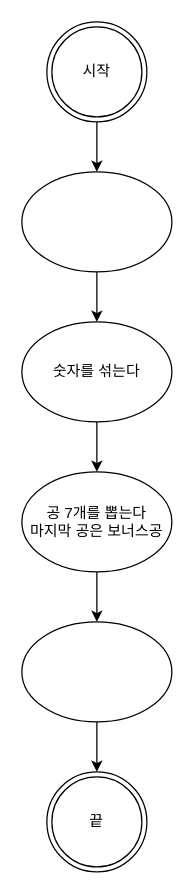
Some shapes in this 194 by 894 pixel diagram are drawn without their labels. The shapes that lost their labels are listed below. From the top down, each one's centre as x and y in pixels, then its label:
At [96,221]: "1~45까지의 숫자를 준비한다".
At [96,671]: "1초마다 공을 하나씩 화면에 표시한다".
